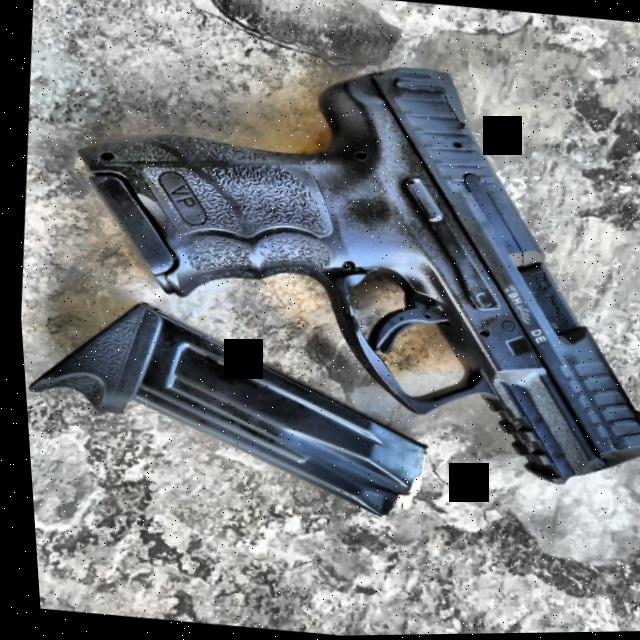HKVP9: (62, 24, 640, 496)
